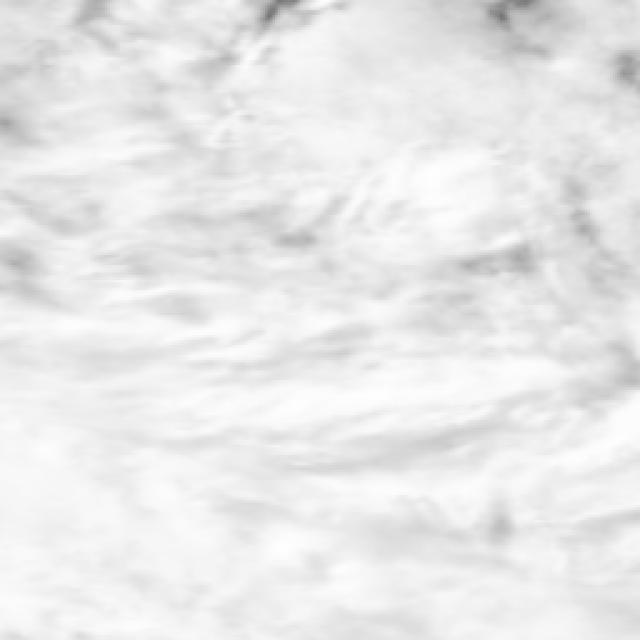CB: (234, 431, 501, 640), (231, 211, 464, 443), (0, 212, 230, 441), (0, 0, 237, 212), (0, 442, 235, 640), (237, 7, 451, 222), (437, 0, 640, 222), (447, 209, 640, 432), (462, 412, 640, 640)
